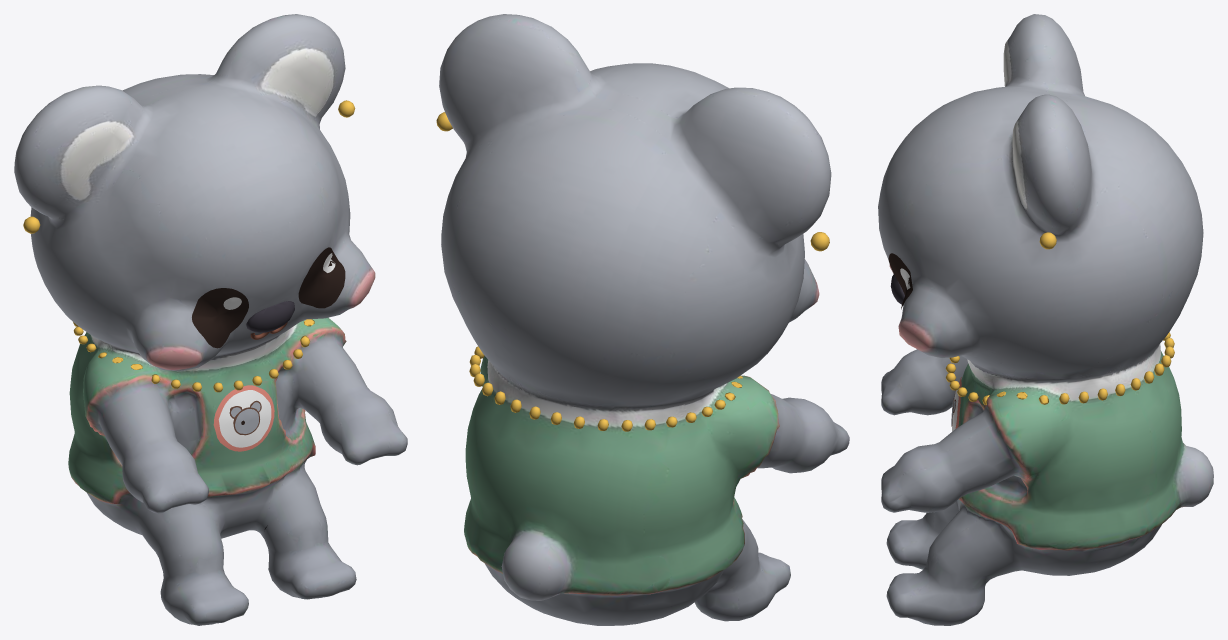
The model's file is koala.glb.
3 views of the same model, side by side, from view 1: azimuth 30°, elevation 25°; view 2: azimuth 150°, elevation 25°; view 3: azimuth 270°, elevation 25° (orthographic). The views are drawn at different scales.
Visible parts, largest first — view 1: chibi, face; view 2: chibi, face; view 3: chibi, face.
Part boxes in pixels (x1,y1,x2,y2): chibi: [14, 14, 407, 625]; face: [23, 100, 355, 451]; chibi: [439, 14, 849, 625]; face: [436, 112, 829, 431]; chibi: [878, 14, 1213, 625]; face: [888, 232, 1174, 431].
Size of the model in its own units: 0.8218 by 1.22 by 0.6975.
Materials: 12 (1 with a texture image).
